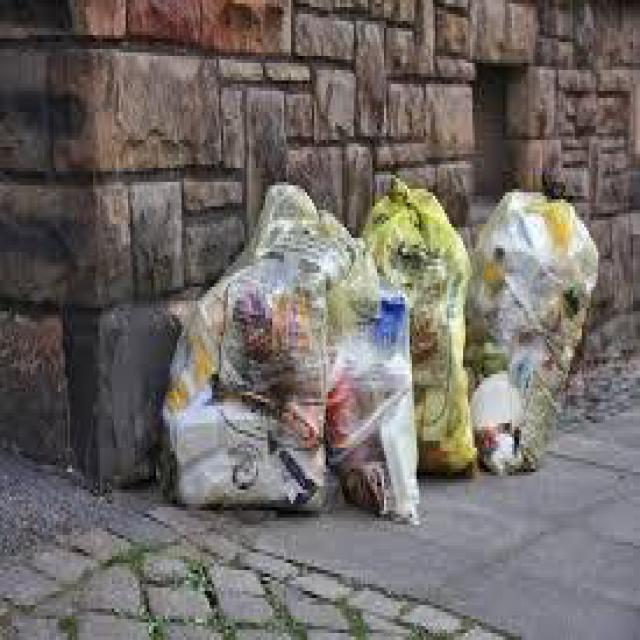garbage: (163, 154, 607, 542)
